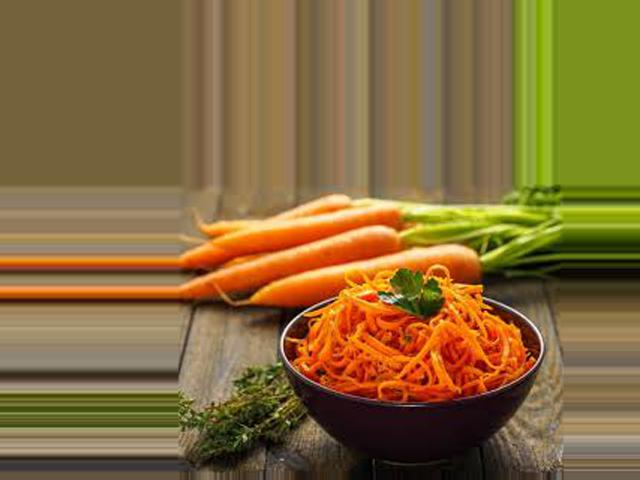carrot: (234, 242, 495, 306)
